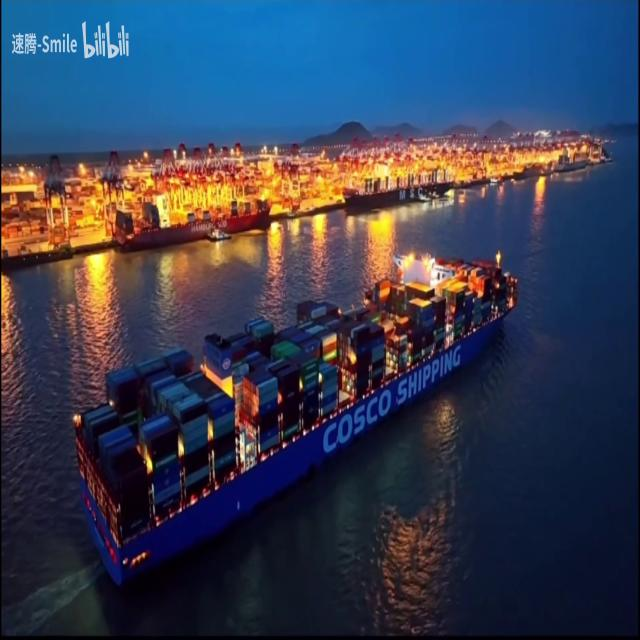cargoship: (68, 250, 519, 606)
